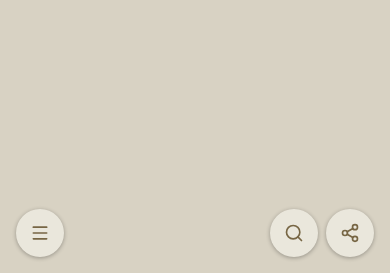
FloatingToolbar › меню открывается по кнопке и закрывается после выбора пункта
Step 1. Click the button named "Меню" → (40, 233), box x1=16 y1=209 x2=64 y2=257
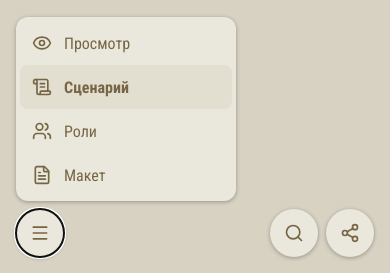
Now the list items read "Просмотр", "Сценарий", "Роли", "Макет", in this order
Step 2. Click the button "Просмотр" → (126, 43), box x1=20 y1=21 x2=232 y2=65
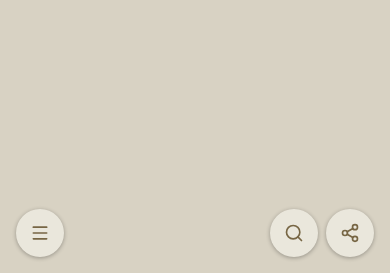
Now the list item "Просмотр" is gone
